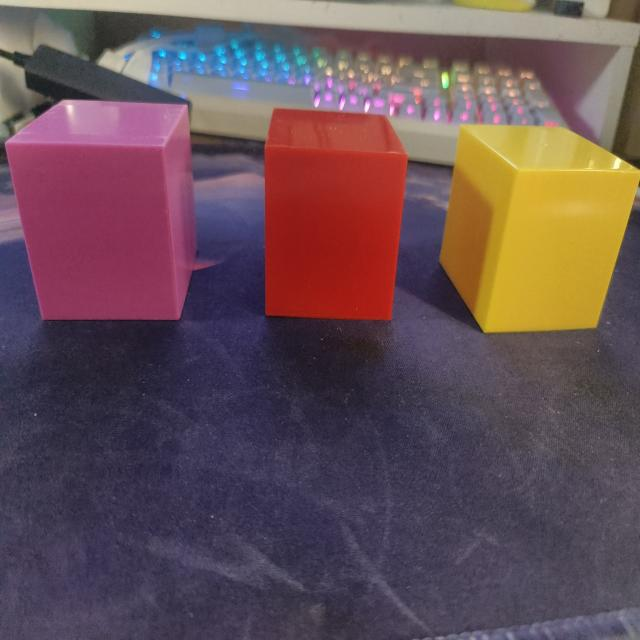pink: (3, 91, 203, 328)
red: (257, 99, 411, 327)
yellow: (435, 120, 634, 342)
